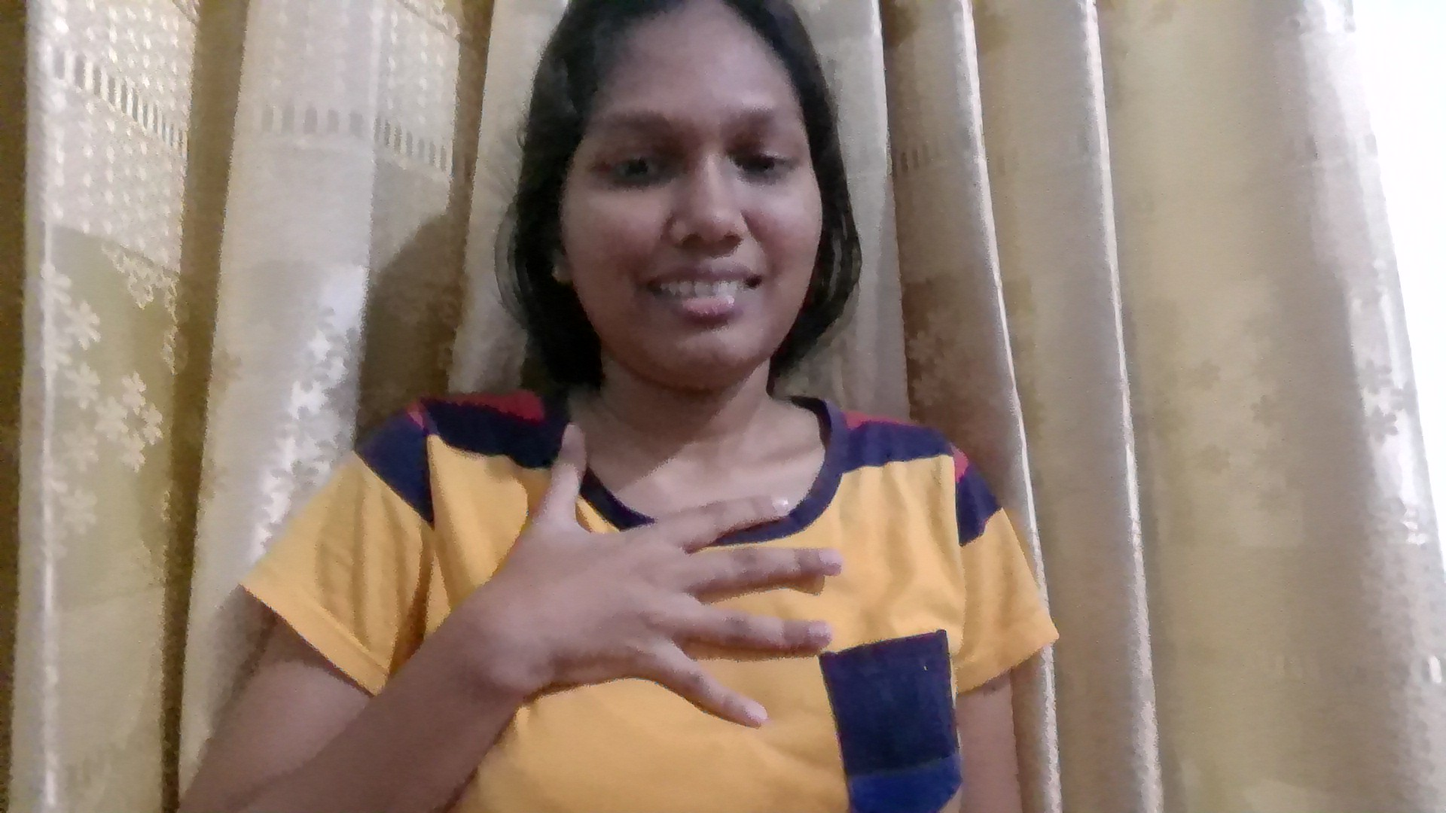Please: (424, 427, 1023, 738)
